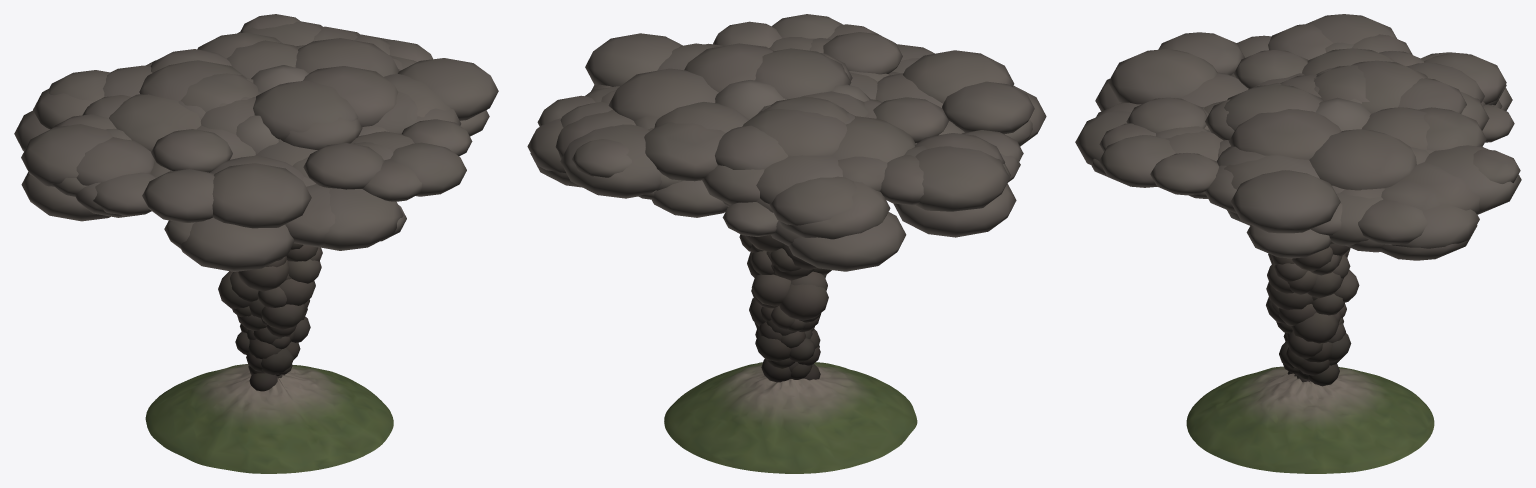
Rendered from pompeii-kit-far.glb.
The picture shows the model from 3 angles, left to right: view 1: azimuth 30°, elevation 25°; view 2: azimuth 150°, elevation 25°; view 3: azimuth 270°, elevation 25°; orthographic projection. The views are drawn at different scales.
Visible parts, largest first — view 1: EruptionColumn_cloth, Vesuvius_stone; view 2: EruptionColumn_cloth, Vesuvius_stone; view 3: EruptionColumn_cloth, Vesuvius_stone.
Boxes of the visible parts, x1,y1,x2,y2 form: EruptionColumn_cloth: (14, 14, 498, 391); Vesuvius_stone: (145, 364, 393, 473); EruptionColumn_cloth: (527, 14, 1046, 382); Vesuvius_stone: (664, 362, 917, 473); EruptionColumn_cloth: (1075, 14, 1521, 386); Vesuvius_stone: (1186, 366, 1434, 473).
Bounding box in the file's own units: 3630 × 2741 × 3243.
